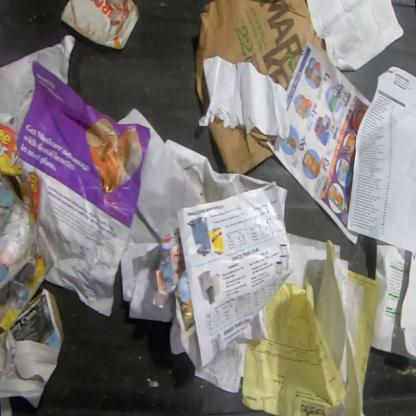cardboard: (195, 1, 328, 114), (208, 118, 278, 175), (61, 0, 140, 50)
